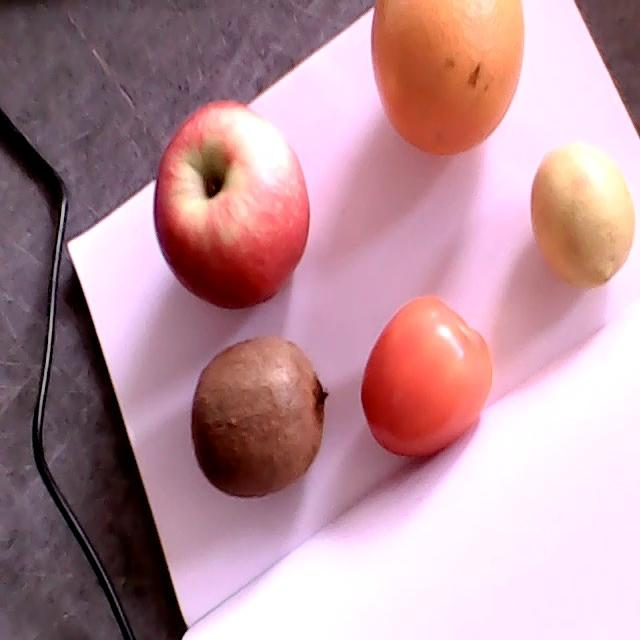apple: (155, 100, 310, 309)
kiwi: (192, 338, 329, 498)
lemon: (531, 149, 634, 284)
orange: (372, 0, 524, 156)
tomato: (362, 296, 491, 458)
